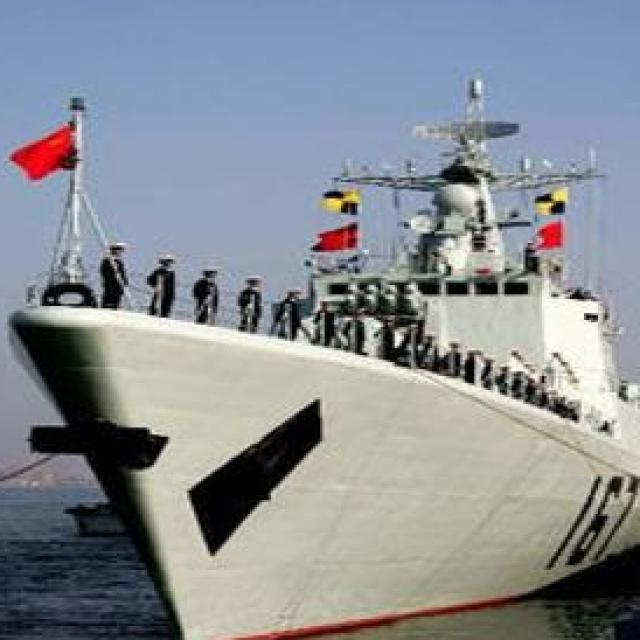navalvessels: (9, 65, 640, 638)
